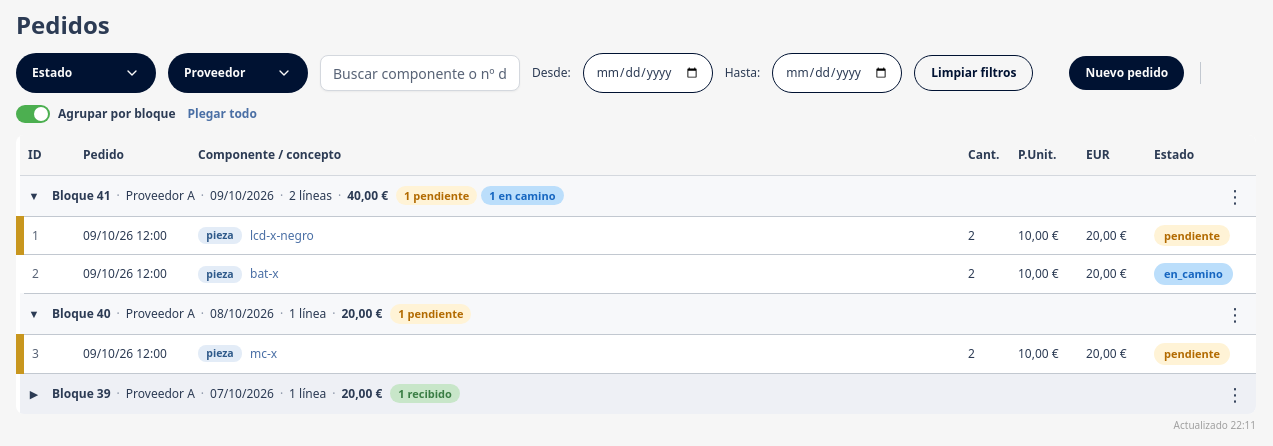
Test: Pedidos agrupados por bloques (0.9.9) › con el buscador: solo las líneas que cumplen, desplegadas y con «mostrando k de n»
This screenshot has width=1273, height=446.
Expected: the button "lcd-x-negro" is shown, [250,227,314,244]
Type "lcd" into the field with placeholder "Buscar componente o nº de bloque…" at (420, 73), box [320,55,520,91]
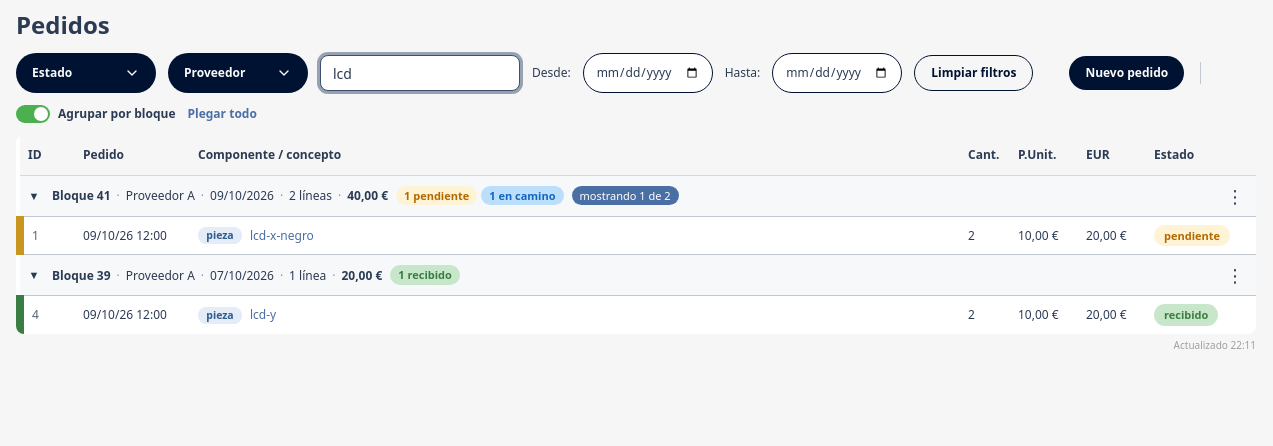
Expected: the text "mostrando 1 de 2" is shown, [572,186,679,205]
Expected: the button "lcd-y" is shown, [250,306,276,324]
Expected: the button "bat-x" is gone
